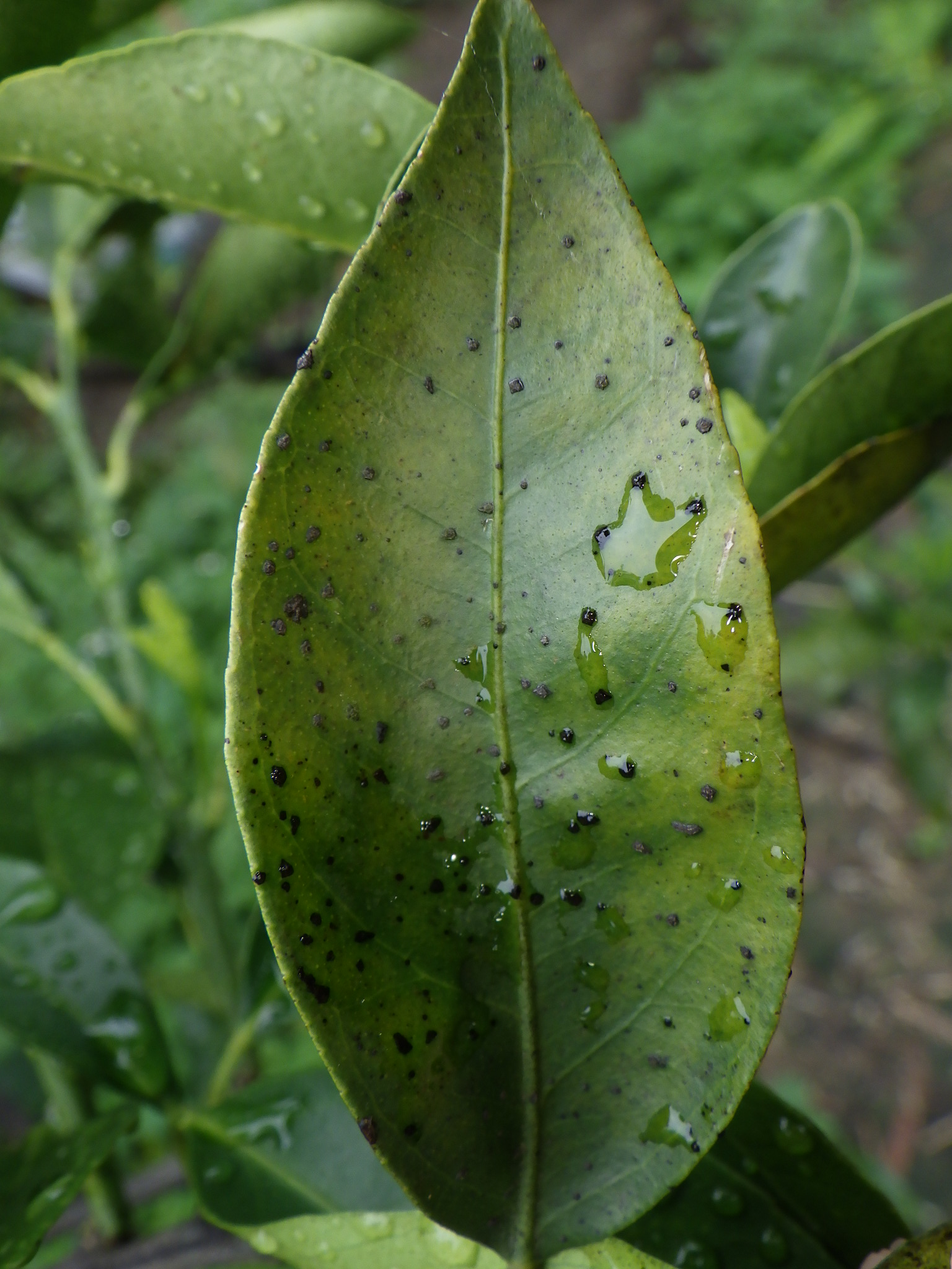Oily_Spot: (226, 0, 802, 1268)
